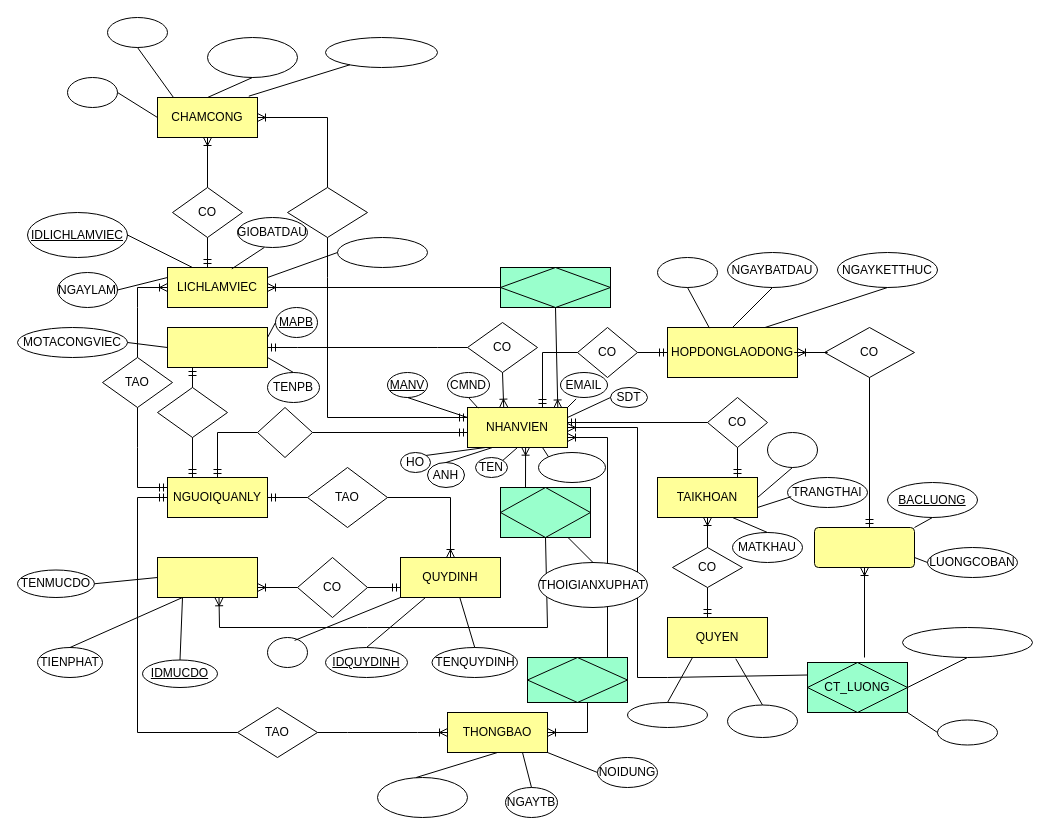
This 1050x835 diagram has some shape labels left out. Each missing label, with the box of its shape:
BAODANH: (286, 186, 368, 238)
CT_LICHLAMVIEC: (500, 266, 610, 308)
CT_THONGBAO: (526, 656, 628, 702)
CT_XUPHAT: (500, 486, 590, 538)
GIOAVAO: (106, 16, 168, 48)
GIOKETTHUC: (336, 236, 428, 268)
GIORA: (66, 76, 118, 108)
IDCHAMCONG: (206, 36, 298, 78)
IDTHONGBAO: (376, 776, 468, 818)
ISA: (256, 406, 312, 458)
LUONG: (814, 526, 914, 568)
LUONGTHUCNHAN: (902, 626, 1032, 658)
MAHDLD: (656, 256, 718, 288)
MAQUYEN: (626, 702, 708, 728)
MOTA: (266, 636, 308, 668)
MUCDO: (156, 556, 258, 598)
NGAYCHAMCONG: (324, 36, 438, 68)
NGAYSINH: (538, 452, 606, 482)
PHONGBAN: (166, 326, 268, 368)
PHUCAP: (936, 719, 998, 745)
QUANLY: (156, 386, 228, 438)
TENQUYEN: (726, 704, 798, 738)
TENTK: (766, 432, 818, 468)
